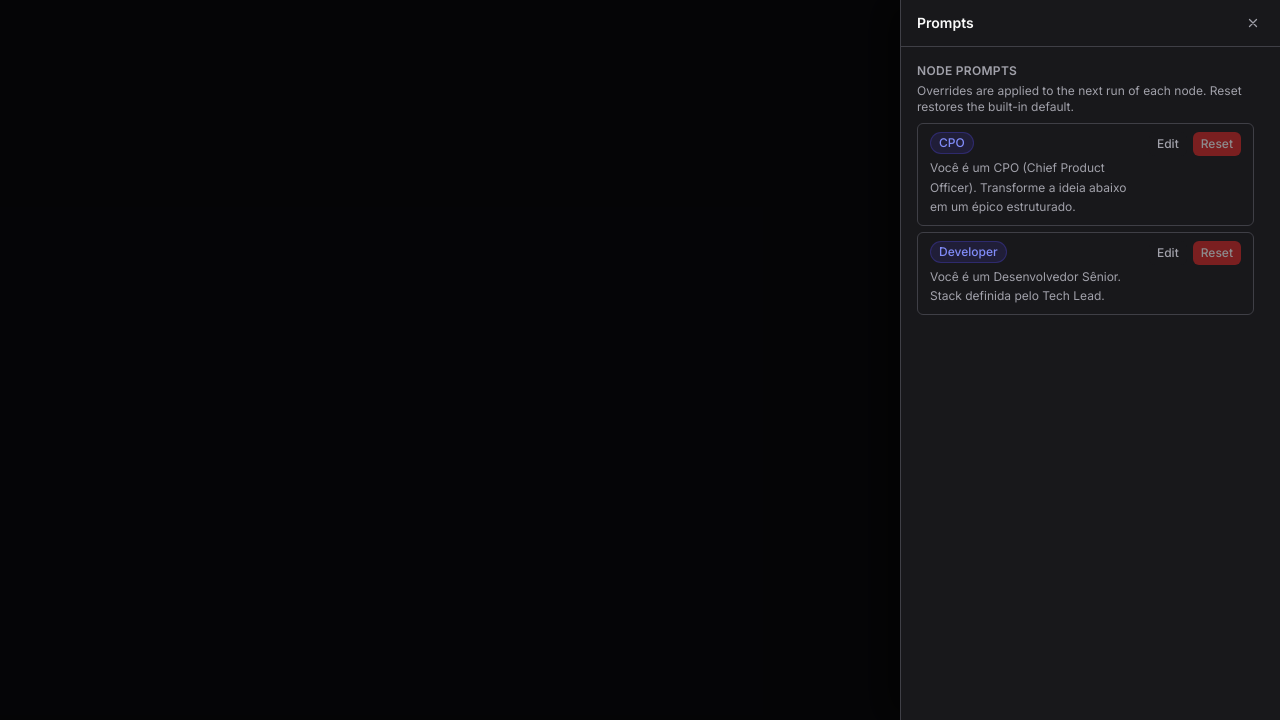
PromptPanel (prompt central) › edits and saves an override via savePrompt(node, prompt)
Expected: the text "CPO" is shown, top-left (930, 132), bottom-right (974, 154)
Click the button with aria-label "Edit cpo prompt".
click(1168, 144)  # box top-left (1149, 132), bottom-right (1187, 156)
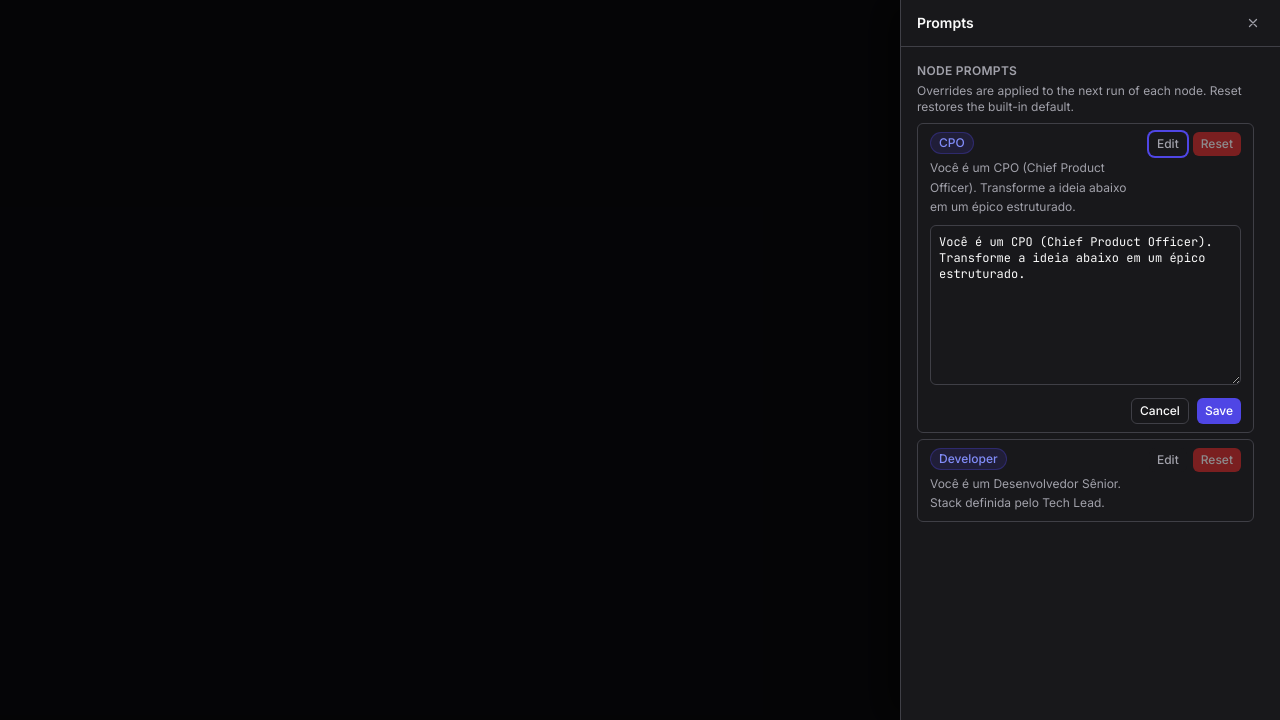
Replace the text in the text box named "cpo prompt text" with "Novo prompt do CPO." at (1086, 304), box top-left (930, 224), bottom-right (1241, 384)
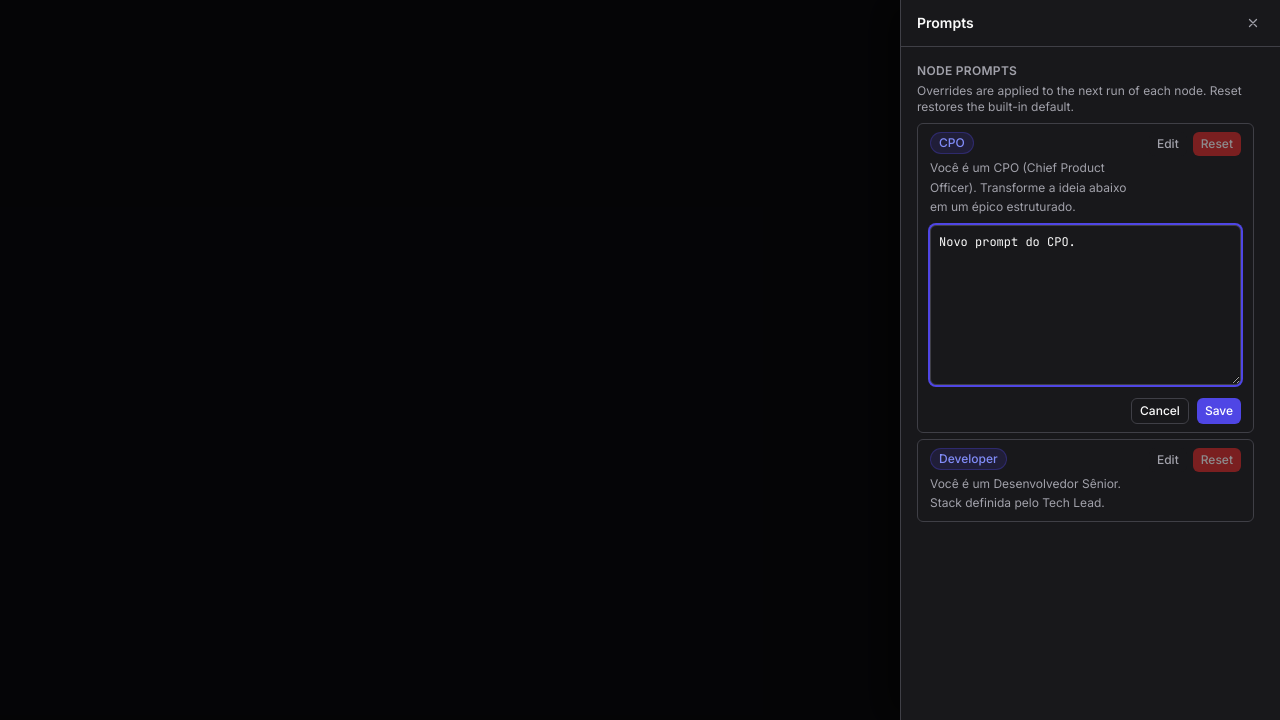
Click the button "Save".
click(1219, 410)  # box top-left (1197, 398), bottom-right (1241, 424)
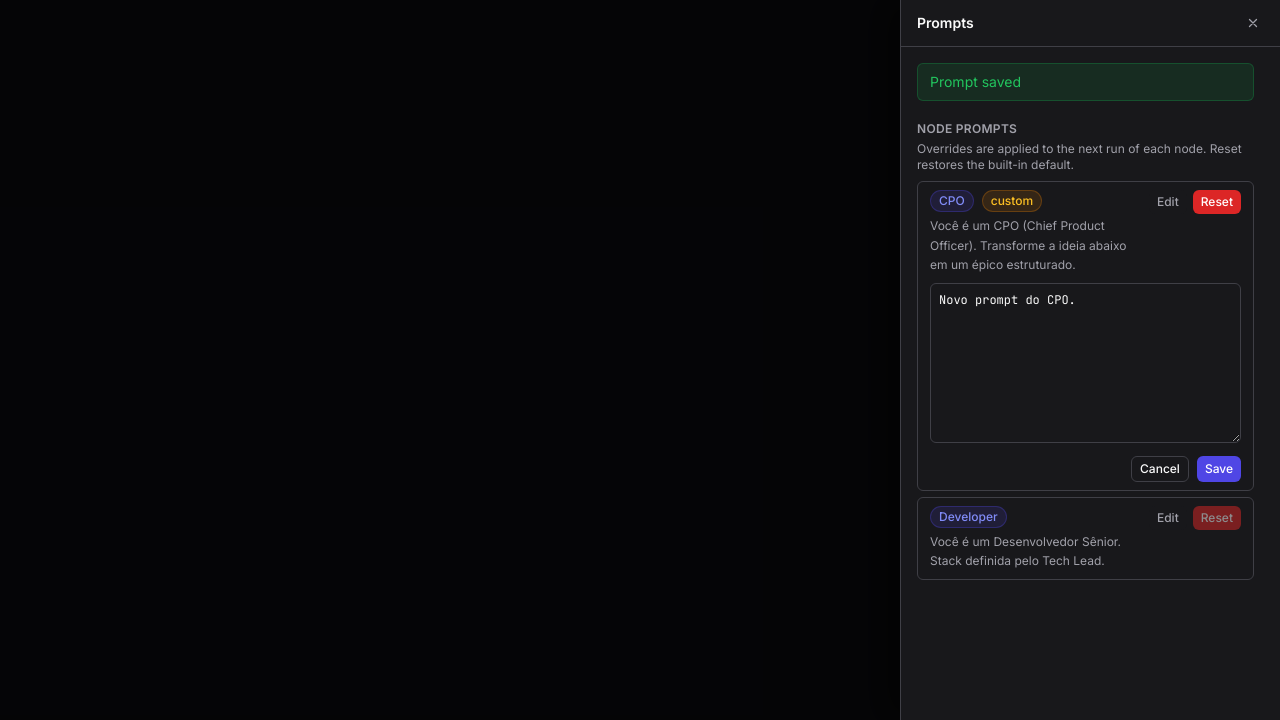
Expected: the message reads "Prompt saved", top-left (930, 73), bottom-right (1021, 90)
